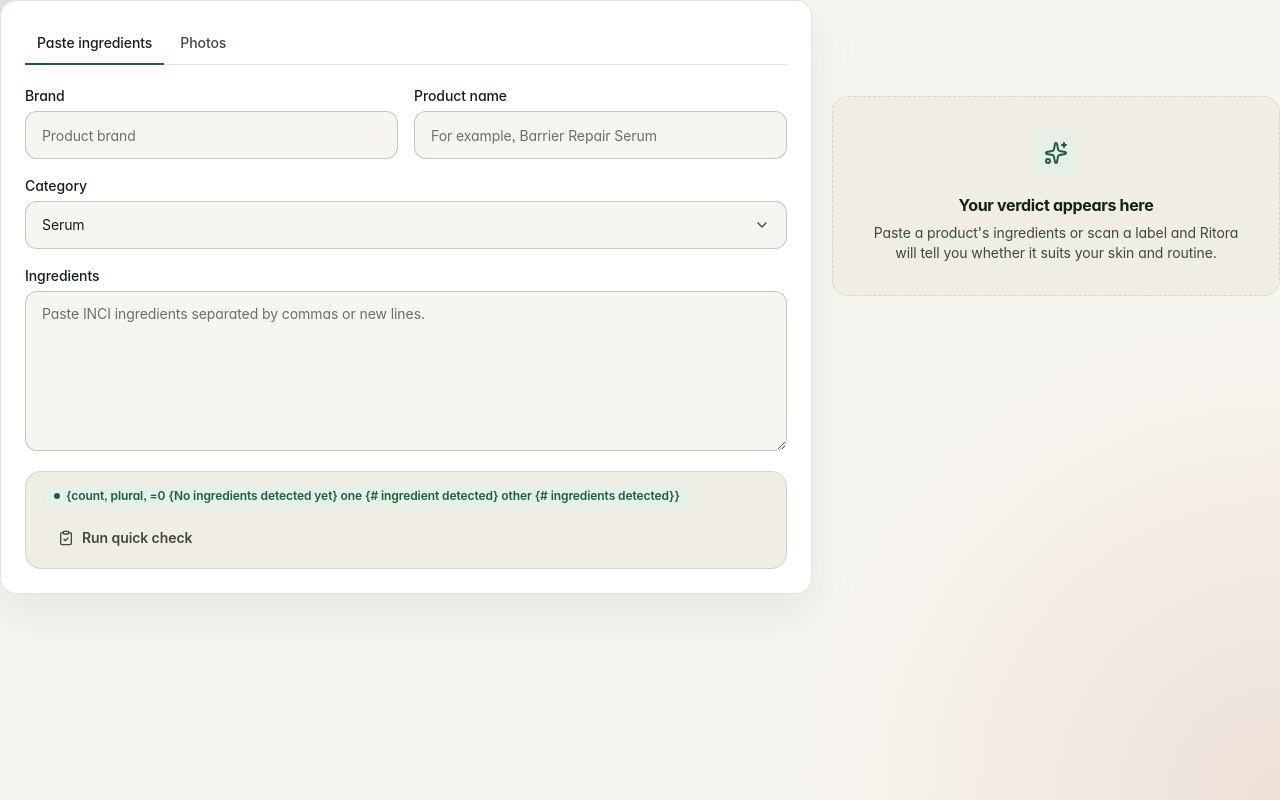
Test case: CheckProductClient › disables photo extraction when image upload is unavailable
The image size is (1280, 800).
Click the tab "Photos" at (203,44), box [168,24,238,64]
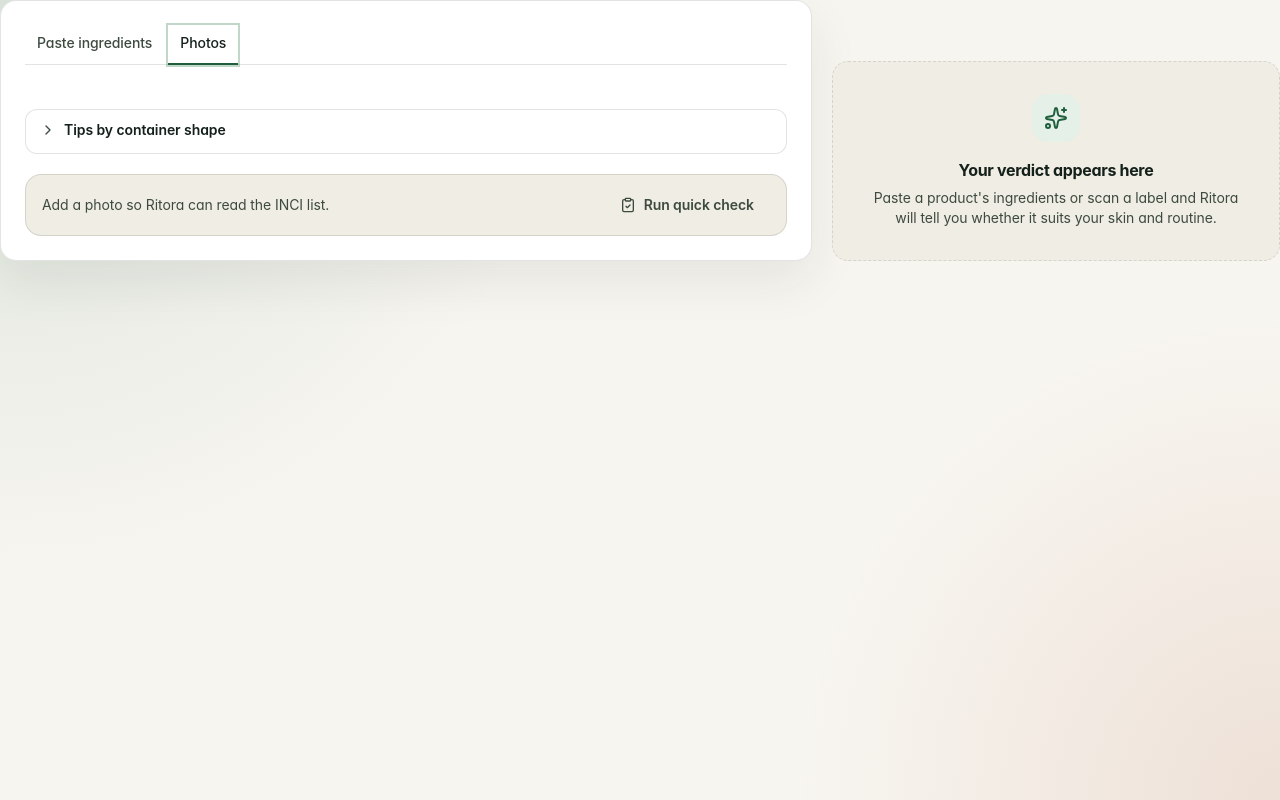
Check: the button "Run quick check" is disabled, box [604,187,770,223]
Check: the element named "add photo" is disabled, box [25,89,787,236]
